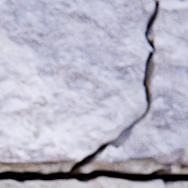broken_brick: (0, 0, 152, 161), (96, 0, 187, 164)
crack: (0, 0, 187, 187)
